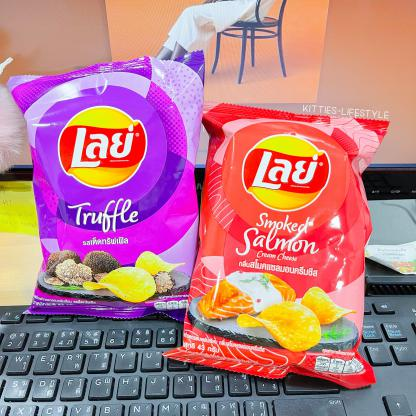potatochip: (160, 93, 397, 395), (10, 41, 222, 329)
